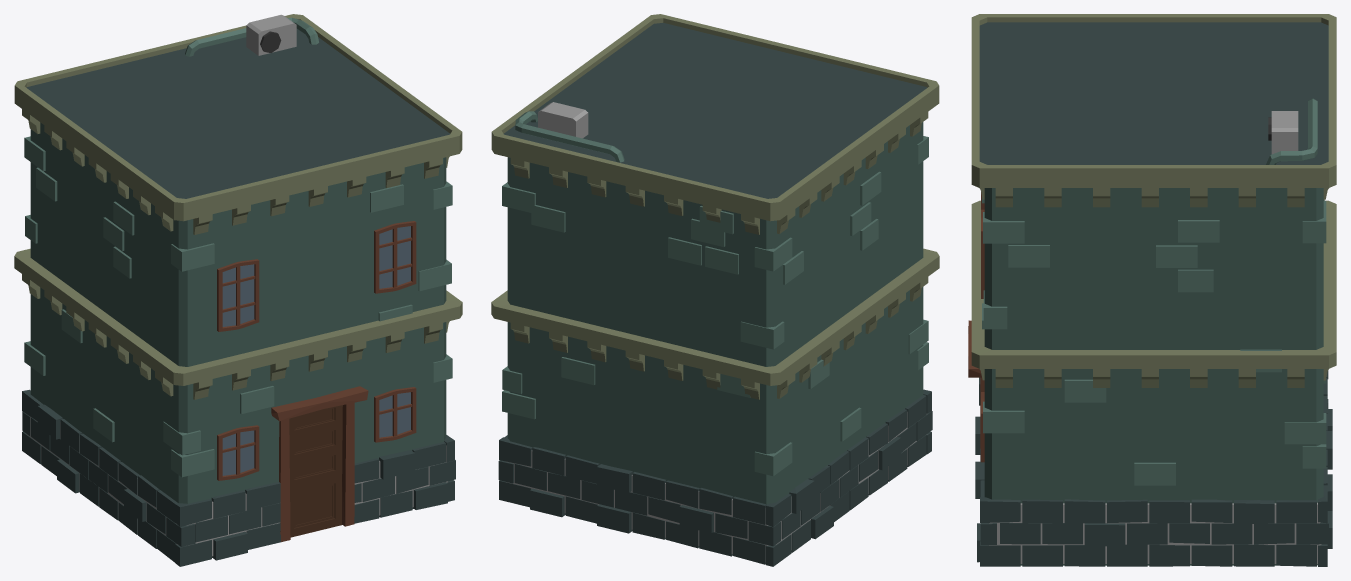
File: 2Story_2.glb
The picture shows the model from 3 angles, left to right: view 1: azimuth 30°, elevation 25°; view 2: azimuth 150°, elevation 25°; view 3: azimuth 270°, elevation 25°; orthographic projection. The views are drawn at different scales.
Parts seen in each view (by area): view 1: 2Story_2_Mat; view 2: 2Story_2_Mat; view 3: 2Story_2_Mat.
Part boxes in pixels (left/top/right/bottom): 2Story_2_Mat: left=14, top=14, right=462, bottom=566; 2Story_2_Mat: left=491, top=14, right=939, bottom=566; 2Story_2_Mat: left=968, top=14, right=1336, bottom=566.
Bounding box in the file's own units: 2.16 × 2.76 × 2.18.
